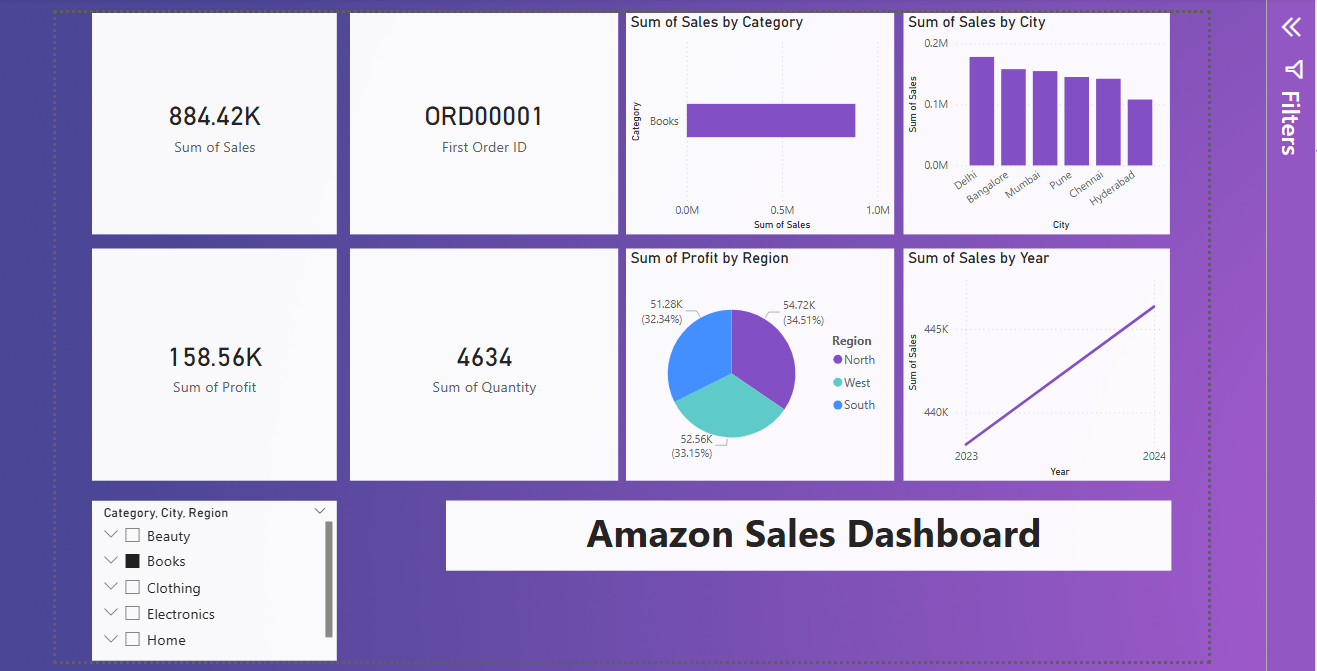

Layout of this report page (visuals, bound fields, positions):
{"tool":"powerbi","page":{"name":"Page 1","canvas":[1280,720],"ordinal":0},"visuals":[{"type":"card","fields":{"Values":["Sum(Amazon Sales Large.Sales)"]},"box":[40,0,272,246],"z":0},{"type":"card","fields":{"Values":["Sum(Amazon Sales Large.Profit)"]},"box":[40,262,272,258],"z":1000},{"type":"card","fields":{"Values":["Sum(Amazon Sales Large.Quantity)"]},"box":[326,262,298,258],"z":3000},{"type":"barChart","fields":{"Y":["Sum(Amazon Sales Large.Sales)"],"Category":["Amazon Sales Large.Category"]},"box":[634,0,298,246],"z":3001},{"type":"pieChart","fields":{"Category":["Amazon Sales Large.Region"],"Y":["Sum(Amazon Sales Large.Profit)"]},"box":[634,262,298,258],"z":3002},{"type":"columnChart","fields":{"Category":["Amazon Sales Large.City"],"Y":["Sum(Amazon Sales Large.Sales)"]},"box":[942,0,296,246],"z":3003},{"type":"lineChart","fields":{"Y":["Sum(Amazon Sales Large.Sales)"],"Category":["Amazon Sales Large.Order Date.Variation.Date Hierarchy.Year"]},"box":[942,262,296,258],"z":3004},{"type":"textbox","box":[434,542,806,78],"z":3005},{"type":"slicer","fields":{"Values":["Amazon Sales Large.Category","Amazon Sales Large.City","Amazon Sales Large.Region"]},"box":[40,542,272,178],"z":3006},{"type":"card","fields":{"Values":["Min(Amazon Sales Large.Order ID)"]},"box":[326,0,298,246],"z":3007}]}

Visuals, with their boxes in screenshot pixels (x1, y1, x2, y2):
card - Sum(Amazon Sales Large.Sales): {"x1": 94, "y1": 14, "x2": 335, "y2": 232}
card - Sum(Amazon Sales Large.Profit): {"x1": 94, "y1": 246, "x2": 335, "y2": 476}
card - Sum(Amazon Sales Large.Quantity): {"x1": 348, "y1": 246, "x2": 612, "y2": 476}
barChart - Sum(Amazon Sales Large.Sales) x Amazon Sales Large.Category: {"x1": 621, "y1": 14, "x2": 886, "y2": 232}
pieChart - Amazon Sales Large.Region x Sum(Amazon Sales Large.Profit): {"x1": 621, "y1": 246, "x2": 886, "y2": 476}
columnChart - Amazon Sales Large.City x Sum(Amazon Sales Large.Sales): {"x1": 895, "y1": 14, "x2": 1158, "y2": 232}
lineChart - Sum(Amazon Sales Large.Sales) x Amazon Sales Large.Order Date.Variation.Date Hierarchy.Year: {"x1": 895, "y1": 246, "x2": 1158, "y2": 476}
textbox: {"x1": 444, "y1": 495, "x2": 1160, "y2": 564}
slicer - Amazon Sales Large.Category x Amazon Sales Large.City: {"x1": 94, "y1": 495, "x2": 335, "y2": 653}
card - Min(Amazon Sales Large.Order ID): {"x1": 348, "y1": 14, "x2": 612, "y2": 232}
